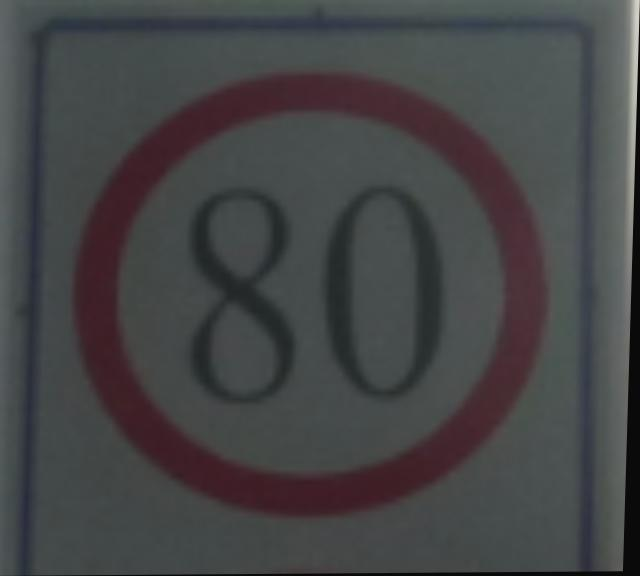limit80: (61, 63, 565, 527)
